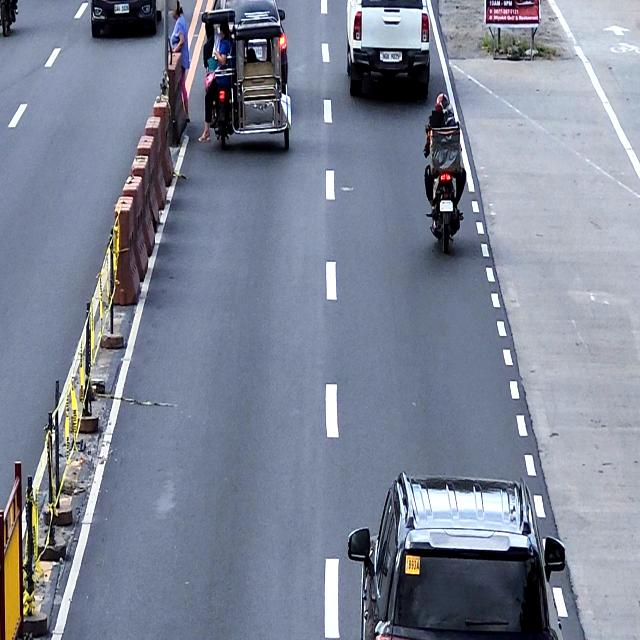Car: (347, 470, 567, 639), (346, 0, 430, 97), (210, 0, 288, 96), (90, 0, 157, 37)
License-Plate: (381, 50, 401, 63), (439, 200, 454, 212), (114, 4, 130, 14)
Motorcycle: (423, 120, 466, 254)
Tricycle: (201, 8, 292, 151)
